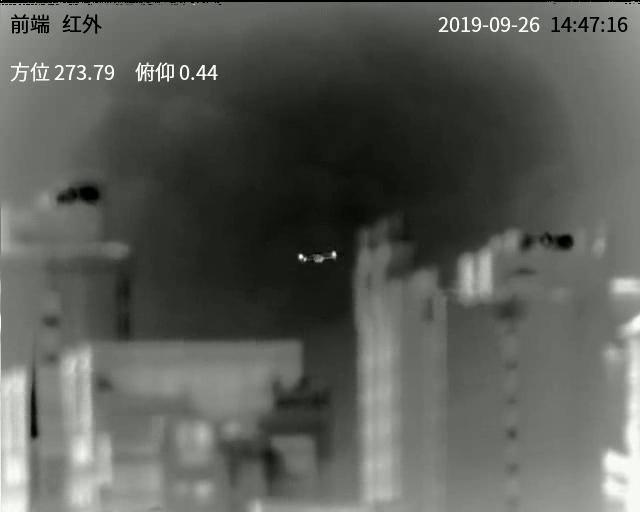DRONE: (296, 249, 338, 265)
